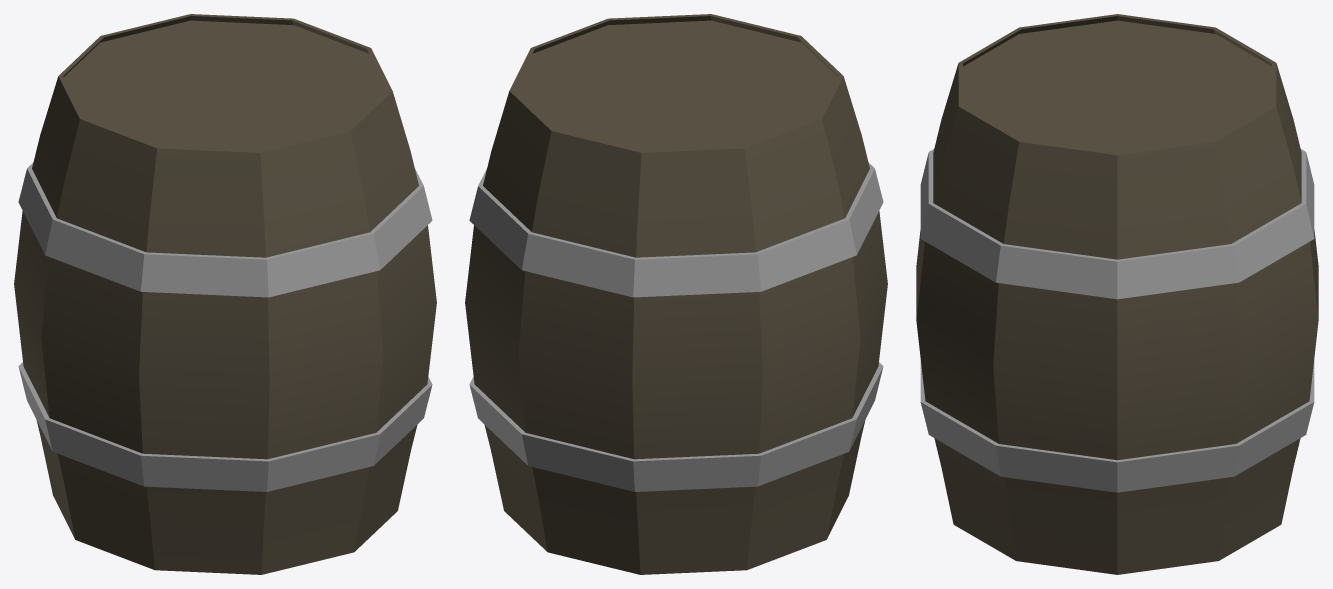
Rendered from Barrel.fbx.
3 renders of one model, left to right at view 1: azimuth 30°, elevation 25°; view 2: azimuth 150°, elevation 25°; view 3: azimuth 270°, elevation 25°, orthographic.
Parts seen in each view (by area): view 1: pCylinder1; view 2: pCylinder1; view 3: pCylinder1.
Part boxes in pixels (bbox=[...]): pCylinder1: bbox=[14, 14, 436, 574]; pCylinder1: bbox=[465, 14, 887, 574]; pCylinder1: bbox=[916, 14, 1318, 574].
Bounding box in the file's own units: 20.32 × 22.14 × 19.33.
